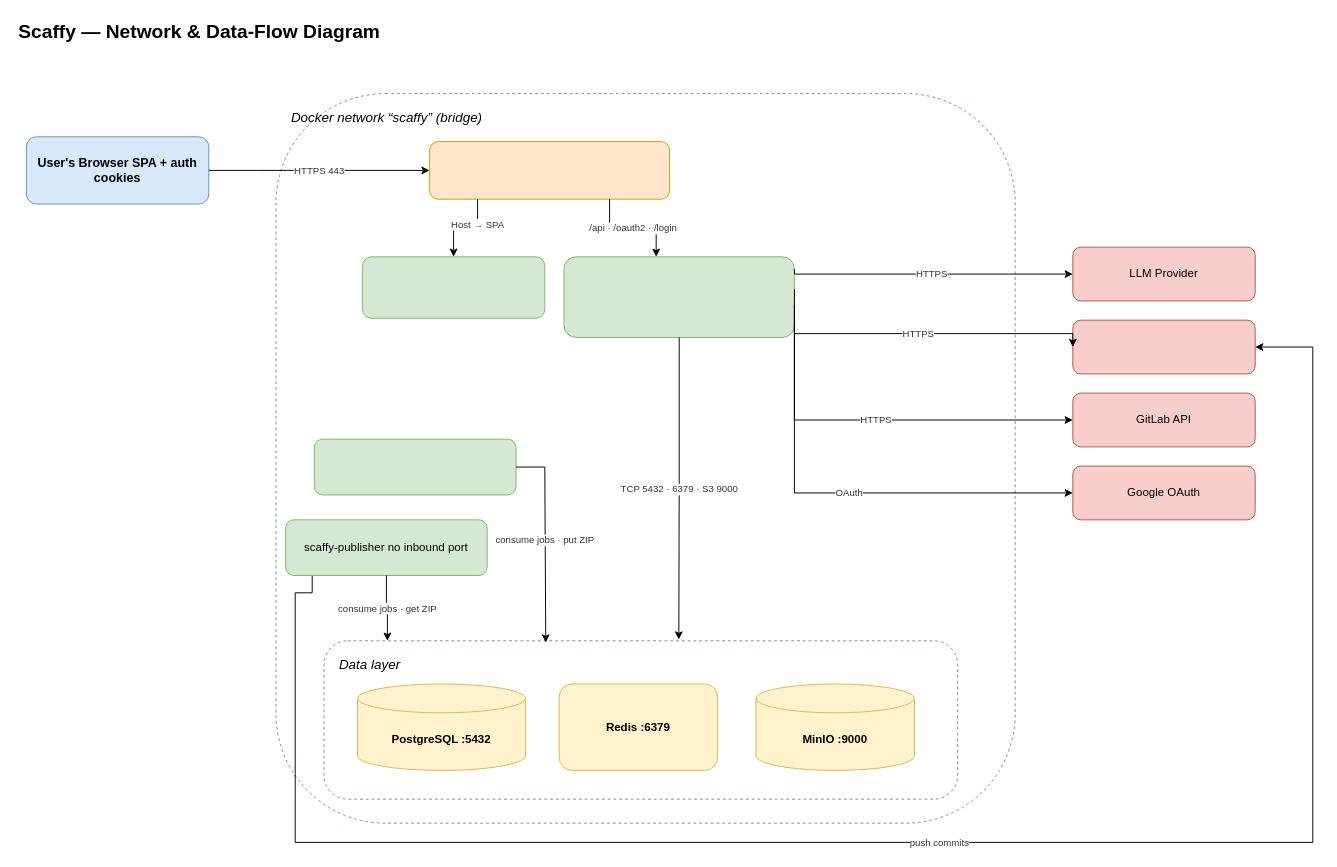
Image size: 1337x867. Some labels were removed from this diagram. The shapes that lost their labels are listed below. From the top down, each one's centre as x and y in pixels, then its label:
point (549, 170): Traefik :80 → :443 (TLS) · Host/Path routing
point (453, 287): scaffy-fe :4173 (static)
point (678, 296): scaffy-be :8080 REST API
point (1163, 346): GitHub API
point (414, 466): scaffy-generator no inbound port
